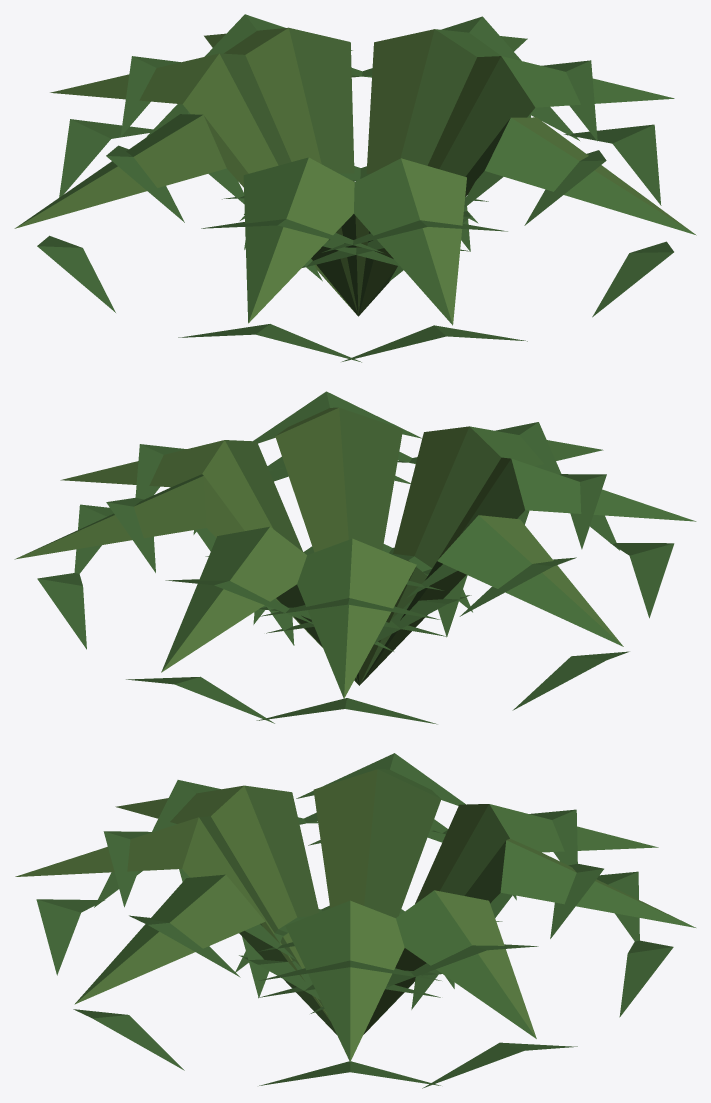
Rendered from jungle-fern.glb.
The picture shows the model from 3 angles, top to bottom: view 1: azimuth 30°, elevation 25°; view 2: azimuth 150°, elevation 25°; view 3: azimuth 270°, elevation 25°; orthographic projection. The views are drawn at different scales.
Visible parts, largest first — view 1: Широкий тропический папоротник; view 2: Широкий тропический папоротник; view 3: Широкий тропический папоротник.
Part boxes in pixels (x1,y1,x2,y2): Широкий тропический папоротник: (14,14,696,362); Широкий тропический папоротник: (14,391,696,724); Широкий тропический папоротник: (15,753,695,1088).
Bounding box in the file's own units: 1.49 × 0.51 × 1.47.
